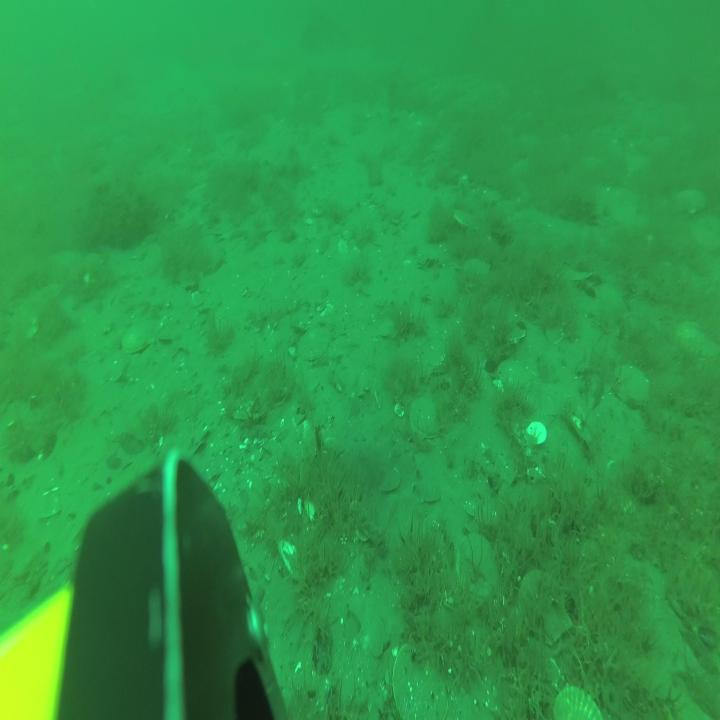scallop: (391, 639, 450, 720), (516, 565, 574, 645), (553, 681, 605, 720), (611, 359, 651, 408), (495, 357, 539, 396), (410, 395, 442, 444), (297, 325, 335, 362), (121, 318, 156, 357), (375, 303, 410, 341), (494, 312, 528, 349), (678, 184, 706, 219)
